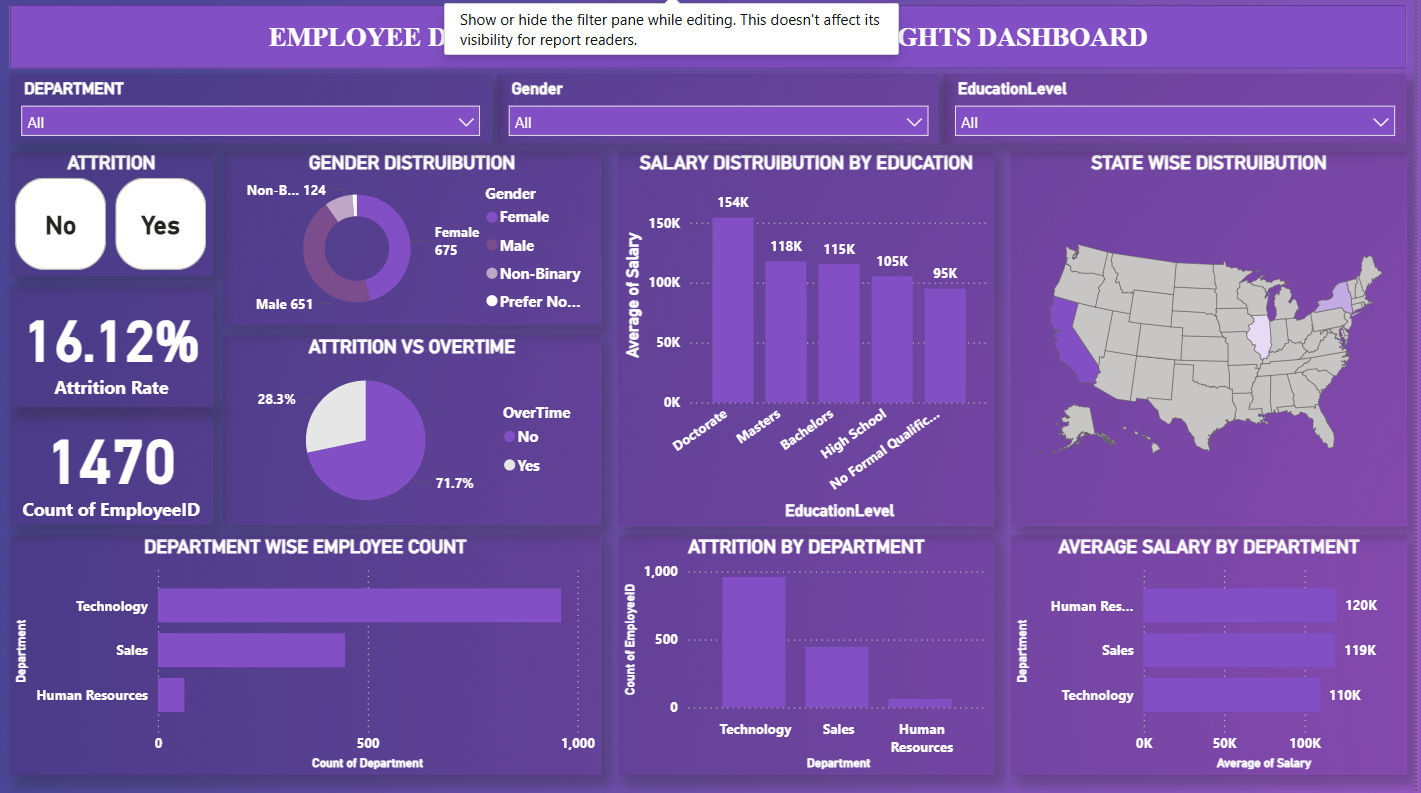

Layout of this report page (visuals, bound fields, positions):
{"tool":"powerbi","page":{"name":"Page 4","canvas":[1280,720],"ordinal":0},"visuals":[{"type":"shape","box":[12.2,8.6,1259.5,57.5],"z":0},{"type":"donutChart","title":"GENDER DISTRUIBUTION","fields":{"Category":["Employee.Gender"],"Y":["CountNonNull(Employee.EmployeeID)"]},"box":[205.4,140.6,339.9,156.5],"z":1000},{"type":"clusteredBarChart","title":"DEPARTMENT WISE EMPLOYEE COUNT","fields":{"Category":["Employee.Department"],"Y":["CountNonNull(Employee.Department)"]},"box":[12.2,486.7,533.2,216.4],"z":2000},{"type":"clusteredBarChart","title":"AVERAGE SALARY BY DEPARTMENT","fields":{"Category":["Employee.Department"],"Y":["Avg(Employee.Salary)"]},"box":[914.7,486.7,357.1,216.4],"z":3000},{"type":"clusteredColumnChart","title":"SALARY DISTRUIBUTION BY EDUCATION","fields":{"Y":["Avg(Employee.Salary)"],"Category":["EducationLevel.EducationLevel"]},"box":[561.3,140.6,338.7,337.5],"z":4000},{"type":"clusteredColumnChart","title":"ATTRITION BY DEPARTMENT","fields":{"Category":["Employee.Department"],"Y":["CountNonNull(Employee.EmployeeID)"]},"box":[561.3,486.7,338.7,216.4],"z":5000},{"type":"pieChart","title":"ATTRITION VS OVERTIME","fields":{"Category":["Employee.OverTime"],"Y":["CountNonNull(Employee.EmployeeID)"]},"box":[205.4,306.9,339.9,171.2],"z":6000},{"type":"card","fields":{"Values":["Count(Employee.EmployeeID)"]},"box":[12.2,371.7,183.4,106.4],"z":7000},{"type":"card","fields":{"Values":["Employee.Attrition Rate"]},"box":[12.2,262.9,183.4,108.8],"z":8000},{"type":"advancedSlicerVisual","title":"ATTRITION","fields":{"Values":["Employee.Attrition"]},"box":[12.2,140.6,183.4,112.5],"z":9000},{"type":"shapeMap","title":"STATE WISE DISTRUIBUTION","fields":{"Category":["Employee.State"],"Value":["CountNonNull(Employee.EmployeeID)"]},"box":[914.7,140.6,357.1,337.5],"z":10000},{"type":"slicer","fields":{"Values":["Employee.Department"]},"box":[12.2,70.9,434.1,62.4],"z":11000},{"type":"slicer","fields":{"Values":["Employee.Gender"]},"box":[452.4,70.9,398.6,62.4],"z":12000},{"type":"slicer","fields":{"Values":["EducationLevel.EducationLevel"]},"box":[854.8,70.9,417,62.4],"z":13000}]}

Visuals, with their boxes on the page's 1280x720 design canvas (x1, y1, x2, y2). These are canvas units, not pixel positions in the 1421x793 screenshot, which may show the page scaled, cropped or inside an application window:
shape: l=12, t=9, r=1272, b=66
"GENDER DISTRUIBUTION" donutChart: l=205, t=141, r=545, b=297
"DEPARTMENT WISE EMPLOYEE COUNT" clusteredBarChart: l=12, t=487, r=545, b=703
"AVERAGE SALARY BY DEPARTMENT" clusteredBarChart: l=915, t=487, r=1272, b=703
"SALARY DISTRUIBUTION BY EDUCATION" clusteredColumnChart: l=561, t=141, r=900, b=478
"ATTRITION BY DEPARTMENT" clusteredColumnChart: l=561, t=487, r=900, b=703
"ATTRITION VS OVERTIME" pieChart: l=205, t=307, r=545, b=478
card - Count(Employee.EmployeeID): l=12, t=372, r=196, b=478
card - Employee.Attrition Rate: l=12, t=263, r=196, b=372
"ATTRITION" advancedSlicerVisual: l=12, t=141, r=196, b=253
"STATE WISE DISTRUIBUTION" shapeMap: l=915, t=141, r=1272, b=478
slicer - Employee.Department: l=12, t=71, r=446, b=133
slicer - Employee.Gender: l=452, t=71, r=851, b=133
slicer - EducationLevel.EducationLevel: l=855, t=71, r=1272, b=133
